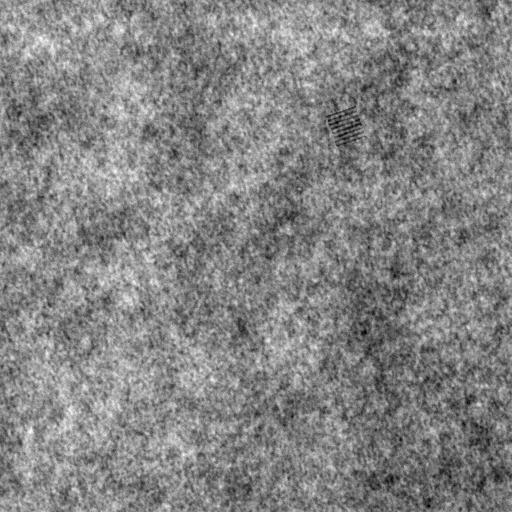DefectTypeB: (329, 106, 365, 149)
